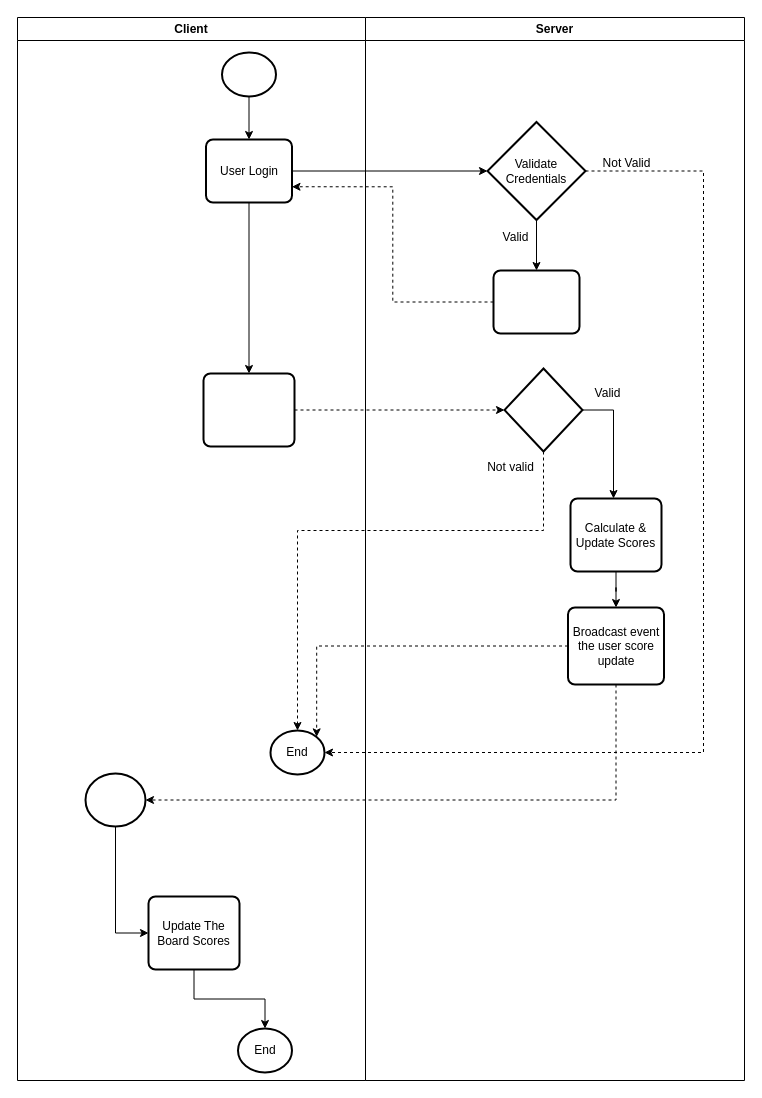
Some shapes in this 762 by 1098 pixel diagram are drawn without their labels. The centre of each missing label's shape, as x and y in pixels:
Client Event Listener: the point at 115,799
Generate JWT Token: the point at 536,301
Start: the point at 248,74
Take Action & Dispatch API: the point at 248,409
Validate Token: the point at 543,409
